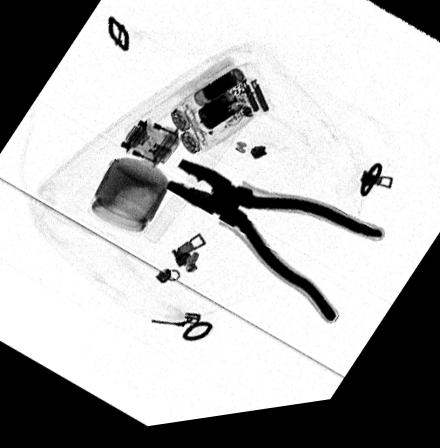Pliers: (163, 162, 383, 337)
